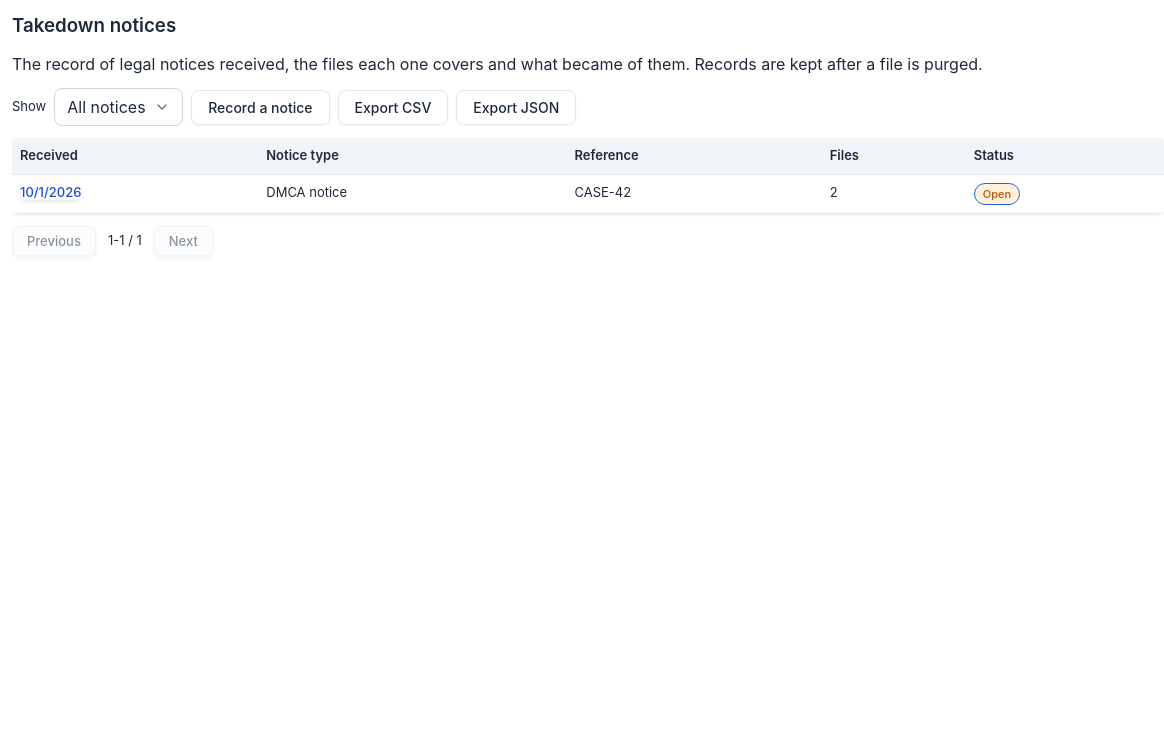
Test: TakedownNoticesPanel › offers no outcome action for a released file or a purged one
Expected: the text "CASE-42" is shown, [566,174,822,214]
Click the button "10/1/2026" at coordinates (51, 192), box [20,184,81,200]
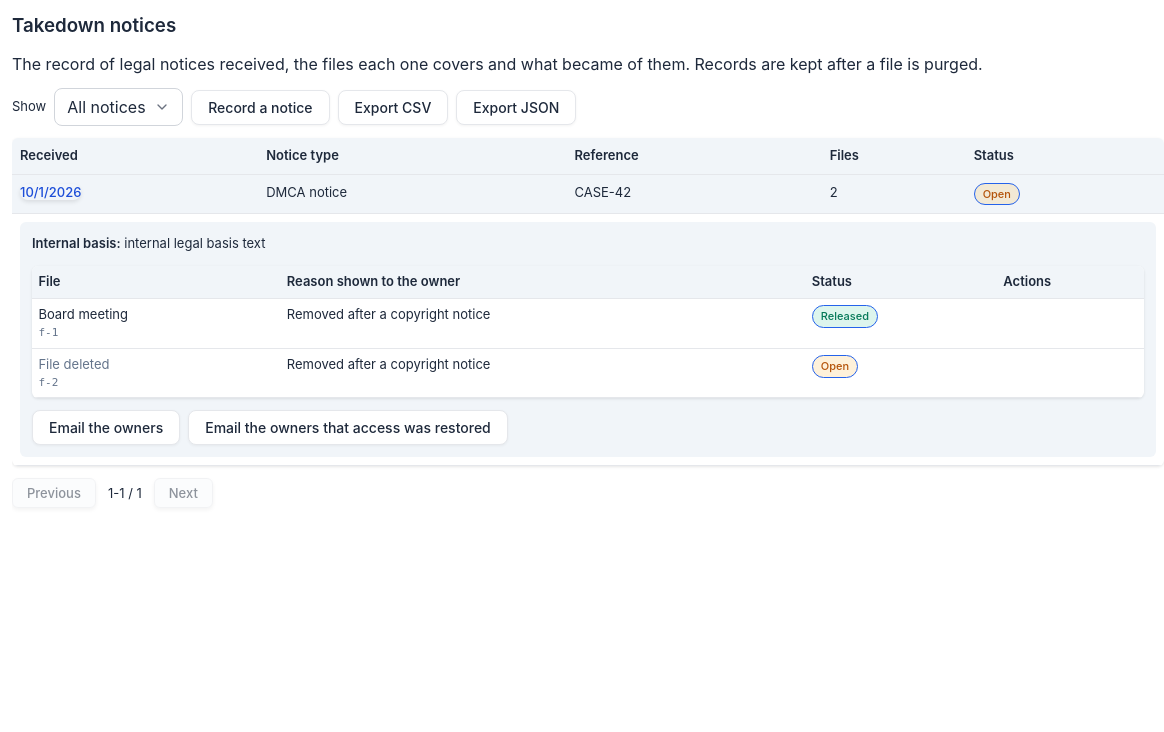
Expected: the text "File deleted" is shown, [38,356,110,372]
